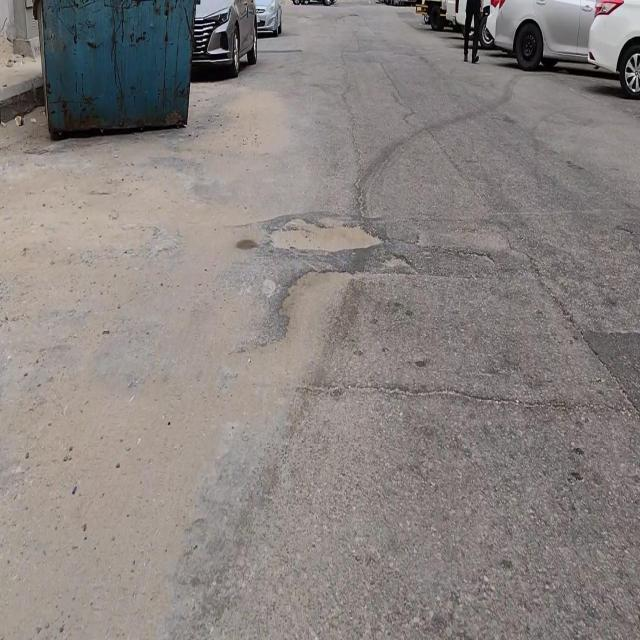Pothole: (264, 211, 384, 257)
